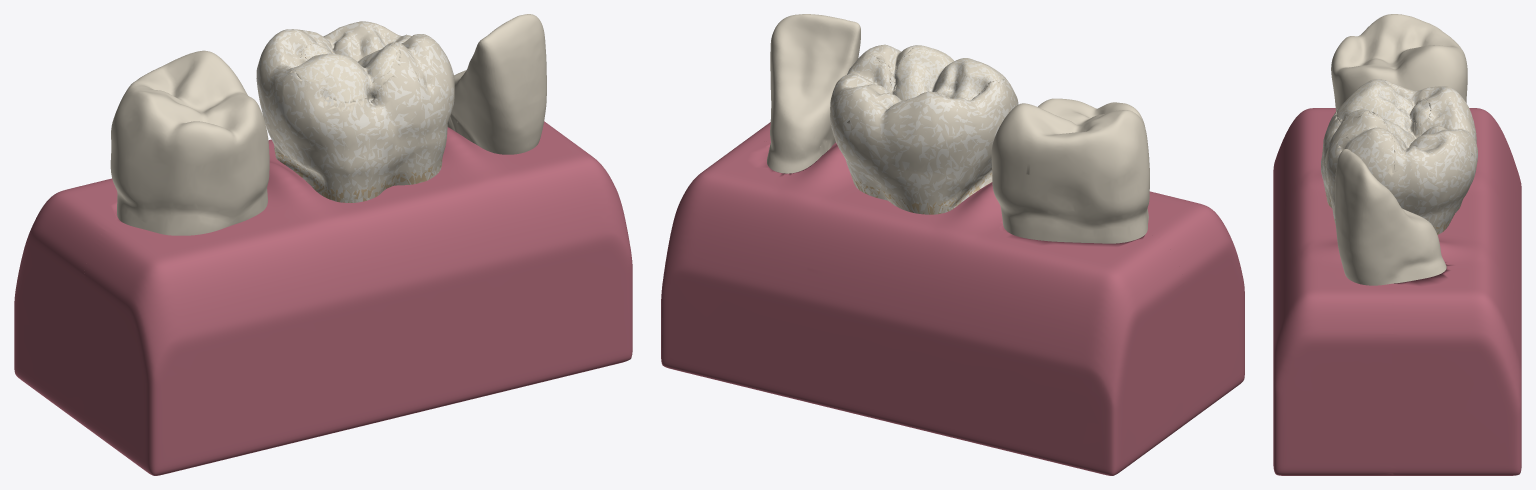
Rendered from rootcanal.glb.
The picture shows the model from 3 angles, left to right: view 1: azimuth 30°, elevation 25°; view 2: azimuth 150°, elevation 25°; view 3: azimuth 270°, elevation 25°; orthographic projection. The views are drawn at different scales.
Parts seen in each view (by area): view 1: SEC_Gum_Standard_Front, SEC_ADJ_Left, SEC_Gum_Standard, RCT_Crown, RCT_Tooth_Accessed, SEC_ADJ_Right, RCT_Tooth_Decayed, RCT_Tooth_Fractured, RCT_Fill_Composite, RCT_Tooth_Prepared; view 2: SEC_Gum_Standard, SEC_ADJ_Left, SEC_Gum_Standard_Front, RCT_Crown, SEC_ADJ_Right, RCT_Tooth_Accessed, RCT_Tooth_Decayed, RCT_Tooth_Fractured, RCT_Fill_Composite; view 3: SEC_Gum_Standard, SEC_Gum_Standard_Front, SEC_ADJ_Right, SEC_ADJ_Left, RCT_Crown, RCT_Tooth_Accessed, RCT_Tooth_Decayed, RCT_Fill_Composite, RCT_Tooth_Fractured.
Part boxes in pixels (x1,y1,x2,y2): SEC_Gum_Standard_Front: (84, 123, 632, 475); SEC_ADJ_Left: (110, 50, 269, 235); SEC_Gum_Standard: (14, 121, 547, 426); RCT_Crown: (256, 21, 453, 202); RCT_Tooth_Accessed: (256, 21, 454, 202); SEC_ADJ_Right: (447, 14, 546, 154); RCT_Tooth_Decayed: (256, 21, 454, 202); RCT_Tooth_Fractured: (257, 21, 454, 199); RCT_Fill_Composite: (294, 42, 400, 102); RCT_Tooth_Prepared: (274, 148, 441, 202); SEC_Gum_Standard: (661, 139, 1183, 475); SEC_ADJ_Left: (991, 98, 1149, 243); SEC_Gum_Standard_Front: (745, 122, 1244, 426); RCT_Crown: (830, 45, 1017, 214); SEC_ADJ_Right: (767, 14, 860, 173); RCT_Tooth_Accessed: (830, 44, 1018, 214); RCT_Tooth_Decayed: (830, 44, 1017, 214); RCT_Tooth_Fractured: (830, 46, 1017, 213); RCT_Fill_Composite: (895, 45, 1004, 100); SEC_Gum_Standard: (1393, 108, 1521, 475); SEC_Gum_Standard_Front: (1273, 108, 1392, 475); SEC_ADJ_Right: (1335, 149, 1446, 285); SEC_ADJ_Left: (1331, 14, 1467, 111); RCT_Crown: (1321, 79, 1477, 233); RCT_Tooth_Accessed: (1321, 80, 1477, 234); RCT_Tooth_Decayed: (1321, 81, 1477, 234); RCT_Fill_Composite: (1336, 79, 1429, 144); RCT_Tooth_Fractured: (1321, 82, 1475, 232).
Size of the model in its own units: 3.13 by 2.01 by 1.57.
